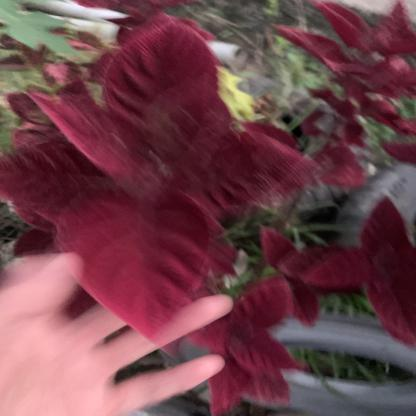Bunga Coleus: (18, 62, 265, 249)
